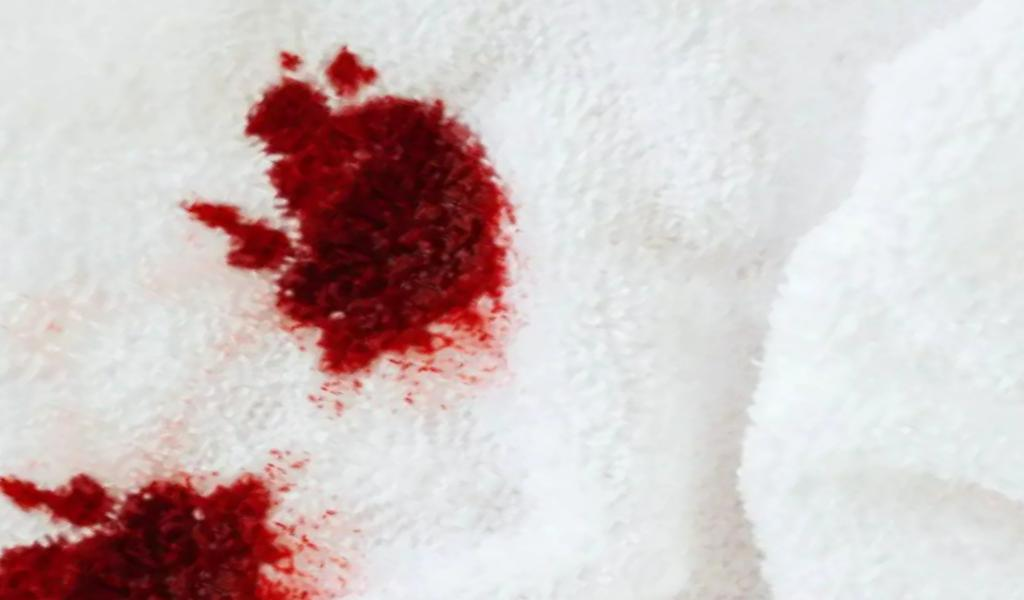stain: (179, 42, 529, 414), (1, 444, 365, 600)
